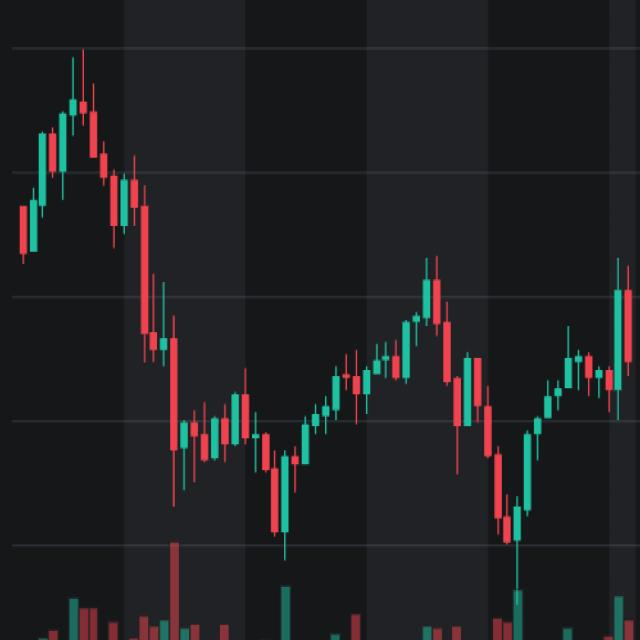Resistance-Emerging: (187, 266, 640, 561)
